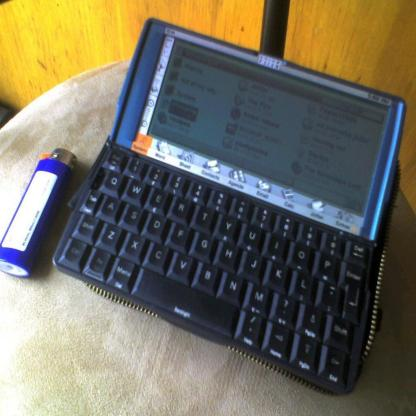board: (53, 17, 407, 395), (0, 146, 76, 278)
